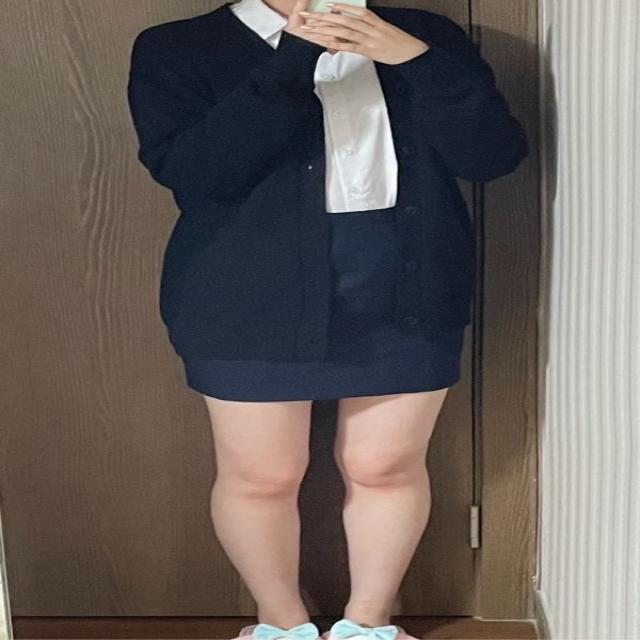cardigan: (126, 3, 528, 367)
skirt: (181, 208, 464, 401)
